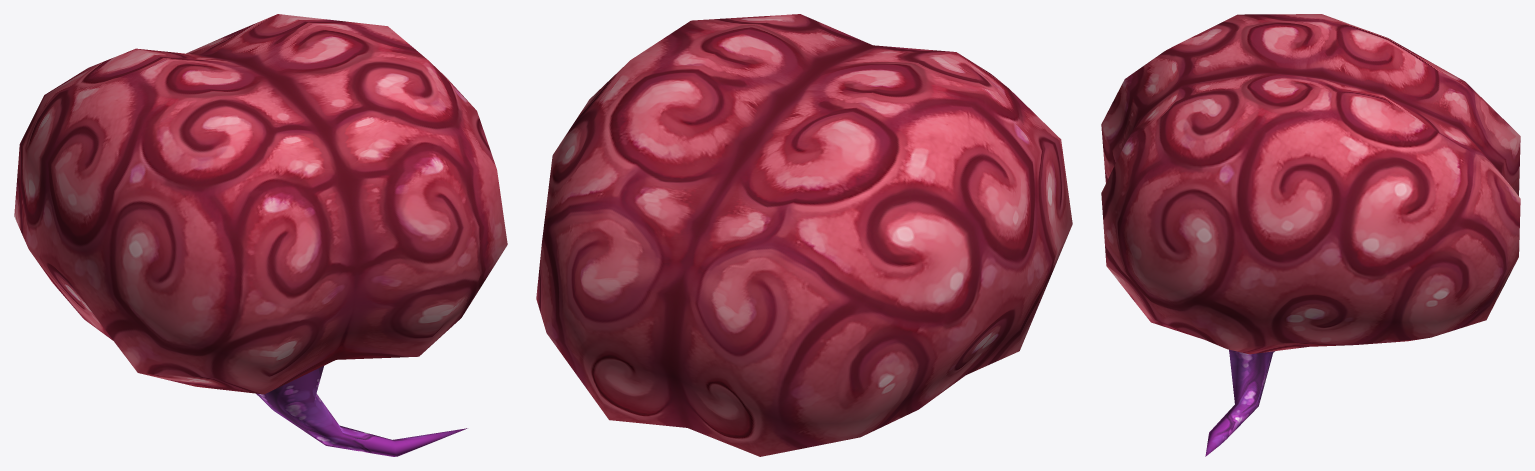
The model's file is prp_brain_01.FBX.
3 renders of one model, left to right at view 1: azimuth 30°, elevation 25°; view 2: azimuth 150°, elevation 25°; view 3: azimuth 270°, elevation 25°, orthographic. The views are drawn at different scales.
Visible parts, largest first — view 1: prp_brain_01; view 2: prp_brain_01; view 3: prp_brain_01.
Part boxes in pixels (bbox=[...]): prp_brain_01: bbox=[14, 14, 507, 456]; prp_brain_01: bbox=[536, 14, 1072, 456]; prp_brain_01: bbox=[1101, 14, 1520, 456].
Bounding box in the file's own units: 0.6842 × 0.6457 × 0.7089.
1 material, 1 textured.
